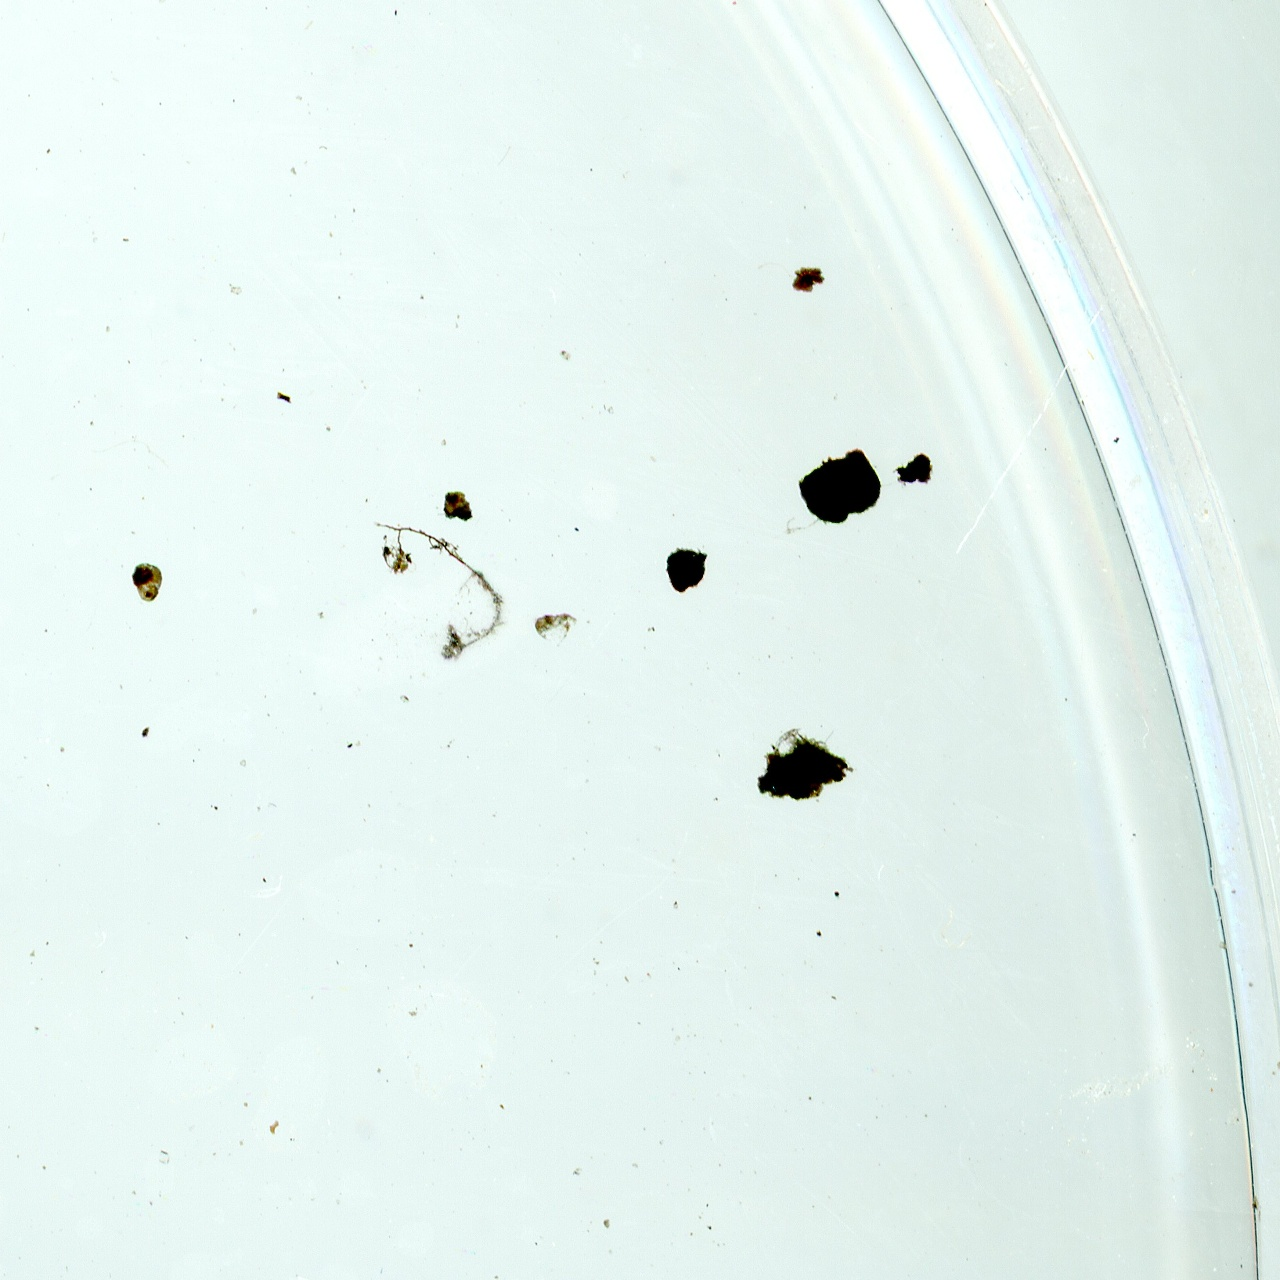arthropod: (131, 557, 163, 603)
